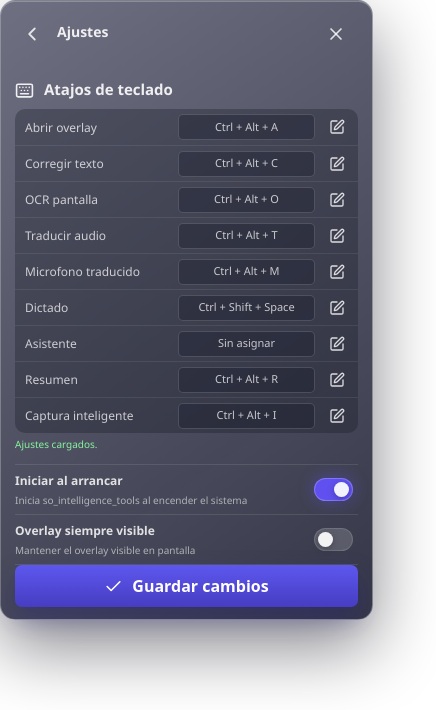
Test: Overlay launcher UI › edits and saves shortcut settings through the desktop bridge
The width and height of the screenshot is (436, 710).
Click the button named "Editar atajo" next to "Ctrl + Alt + C" at point(335, 164), box [323, 152, 347, 176]
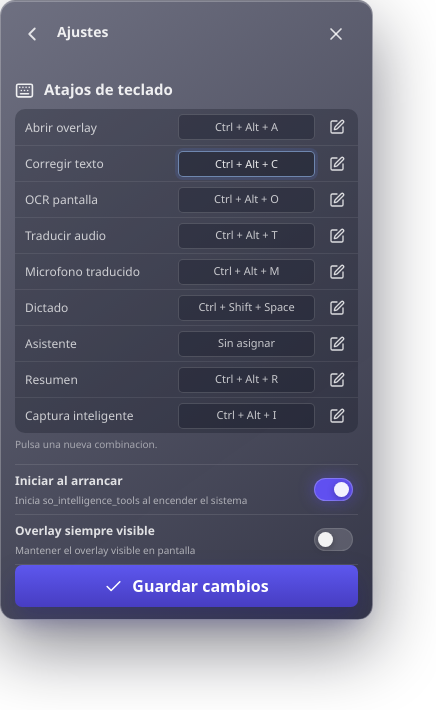
Press K in the field with class "shortcut-input", box [178, 150, 315, 176]
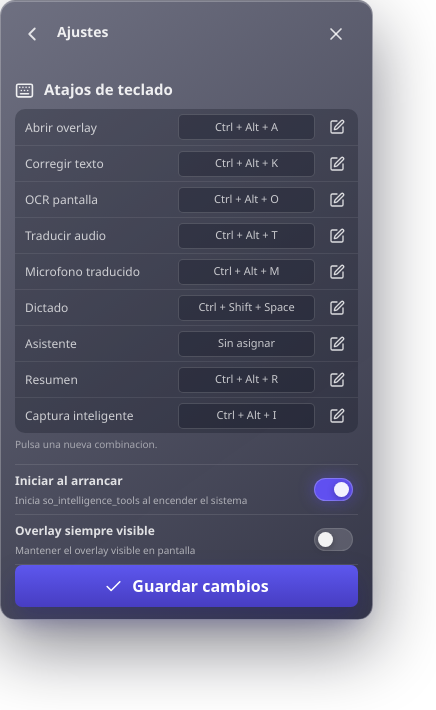
Click the button with class "save-settings" at point(186, 586), box [15, 565, 358, 607]
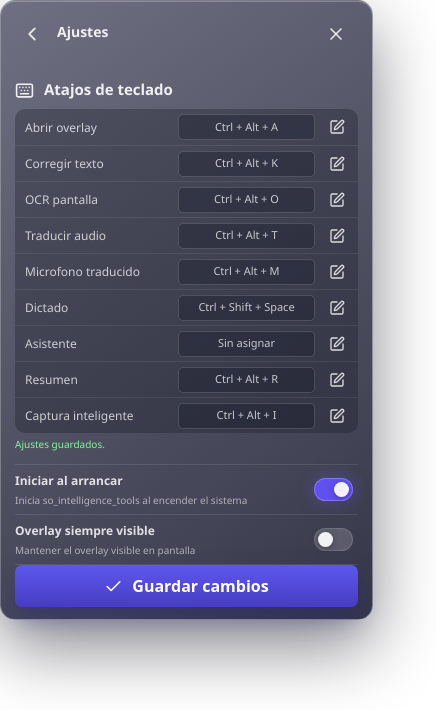
Check: the text "Ajustes guardados." is shown, box [15, 437, 105, 451]
